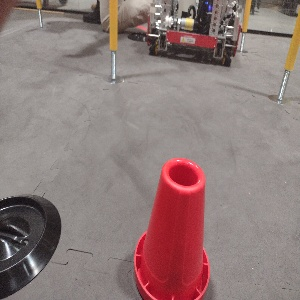Red_1: (131, 155, 211, 299)
